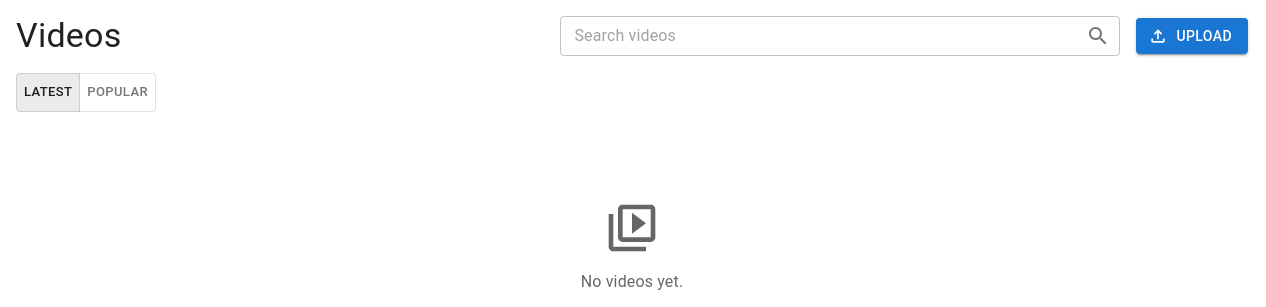
it: says when a search finds nothing
Type "zzz" into the field labelled "Search videos".
click(815, 36); type("zzz")  # box [560, 16, 1070, 56]
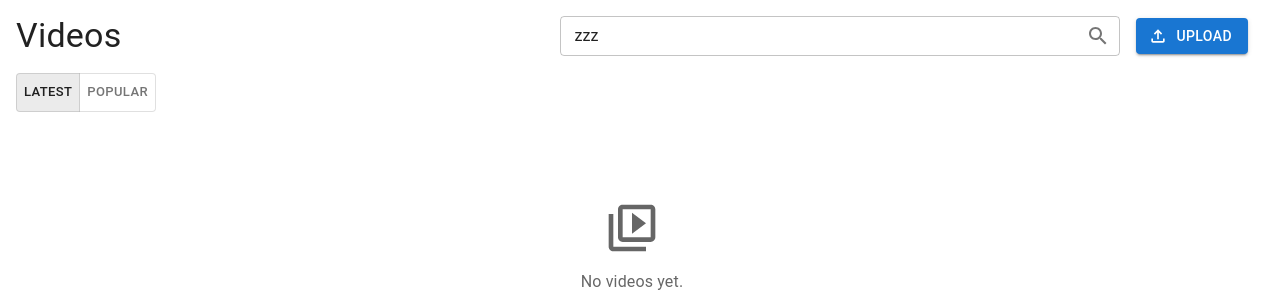
Submit the form, box [560, 16, 1120, 56]
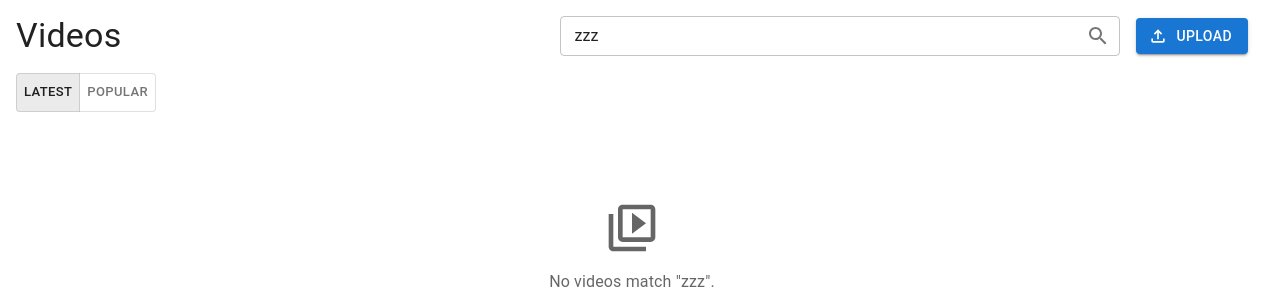
Now the text "No videos match \"zzz\"." is shown, box [549, 272, 715, 291]
